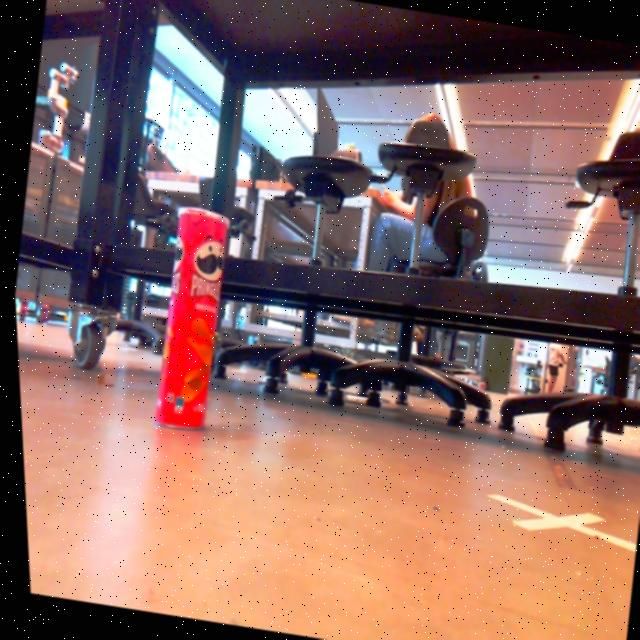redpringles: (129, 190, 244, 446)
